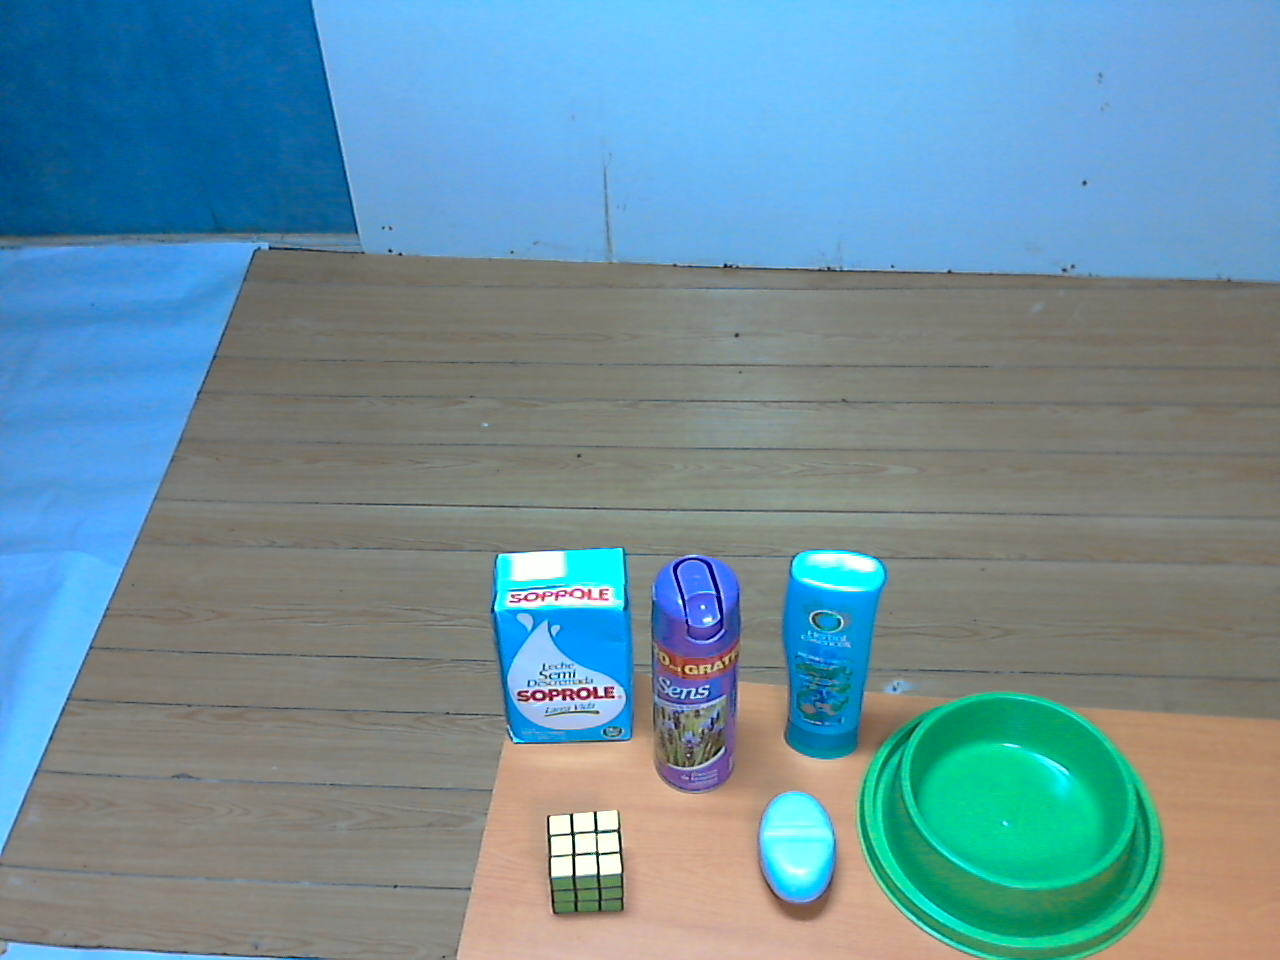aerosol: (639, 548, 741, 798)
balsamo: (773, 539, 888, 766)
cubix: (530, 801, 639, 926)
jabon: (746, 785, 845, 928)
leche: (488, 534, 645, 753)
platoperro: (848, 679, 1172, 960)
